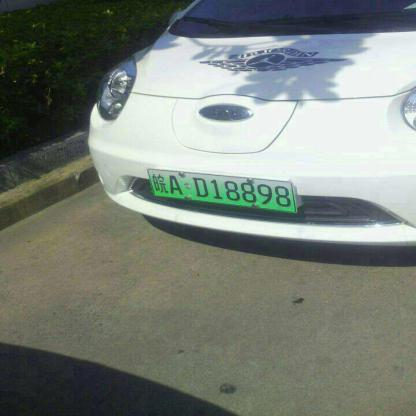lp: (148, 169, 297, 212)
